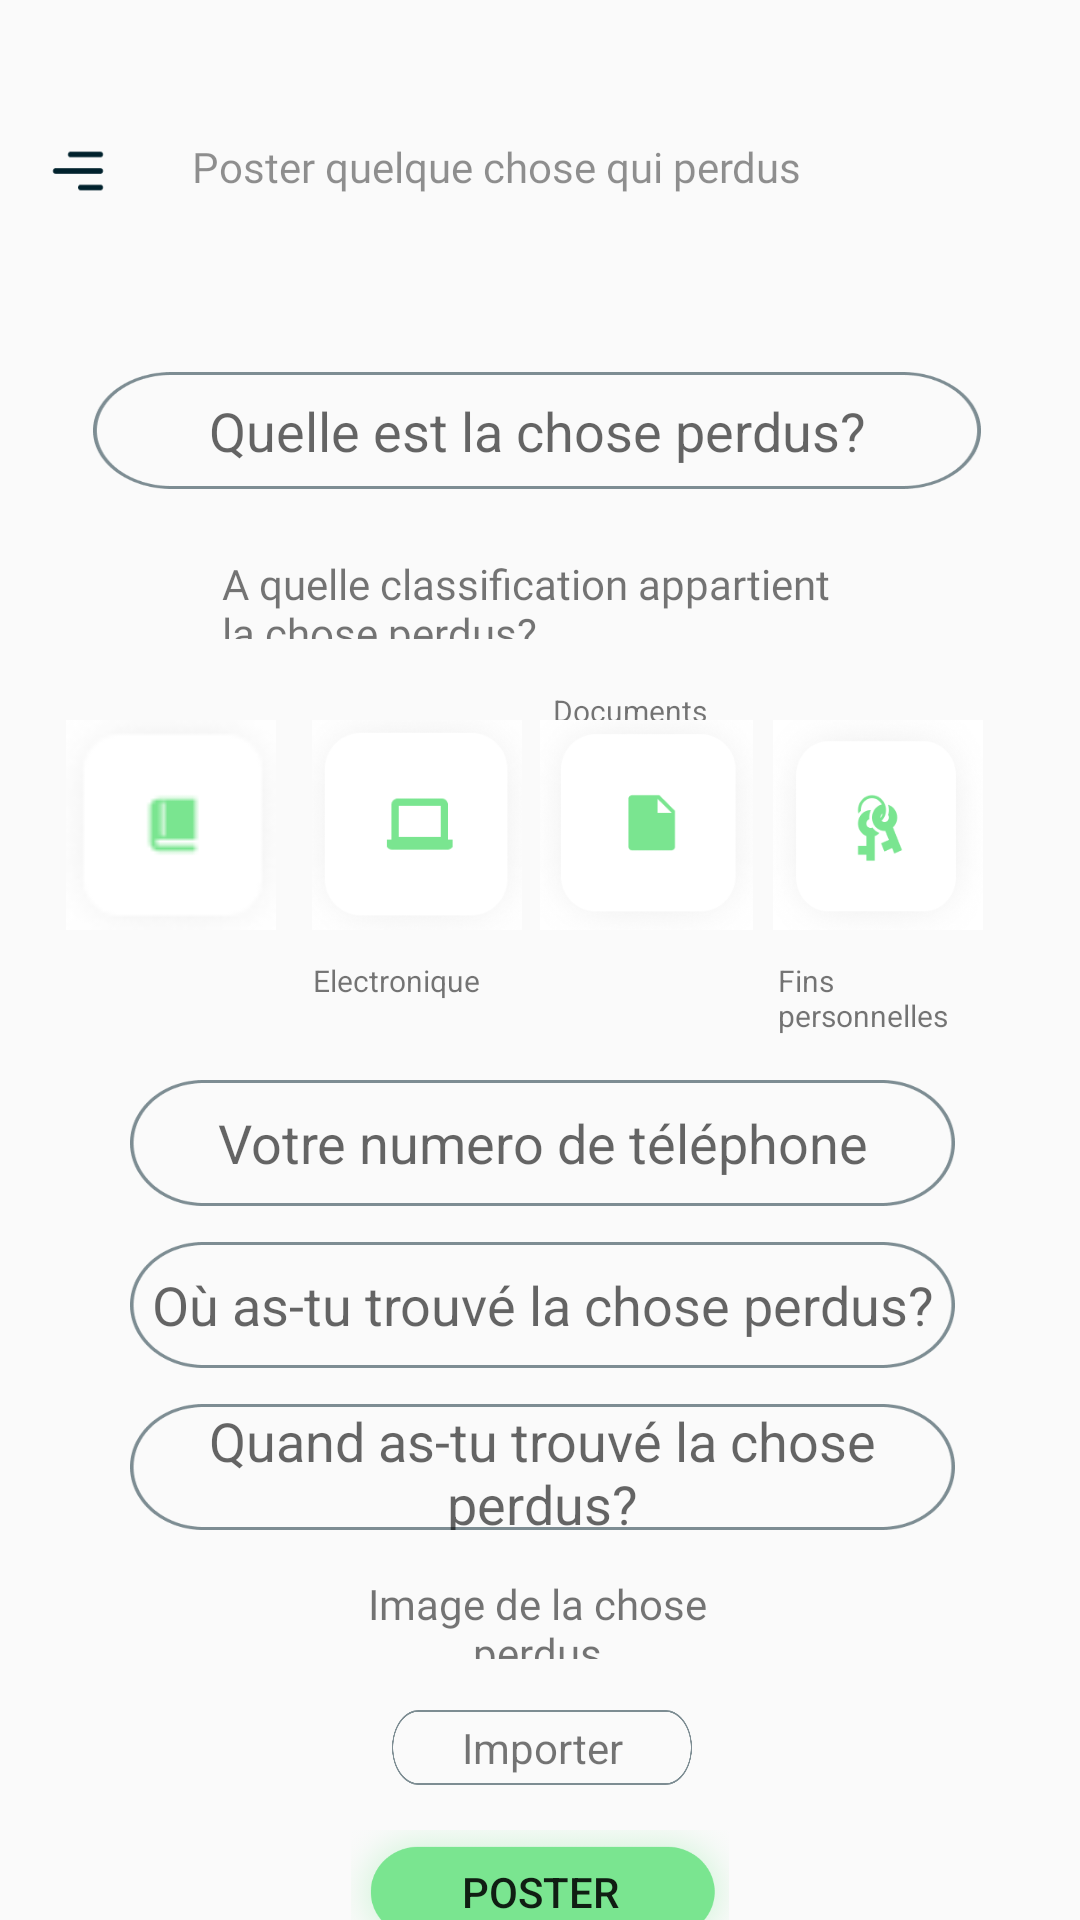

Named icons in this screenshot (1080 x 1920) and their centers, (x=x, y=y):
doc: (x=651, y=823)
